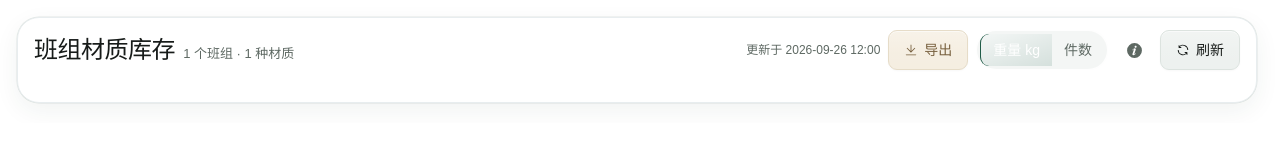
Scenario: live team material stock page › retains a labeled previous snapshot when refresh fails
Click the button "刷新" at (1200, 50), box [1160,30,1240,70]
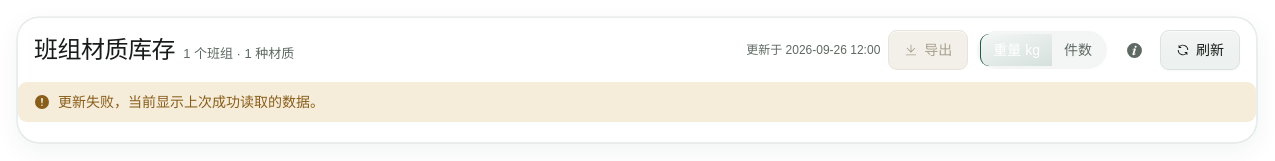
Result: the text "上次成功读取" is shown at [58,94,324,110]
